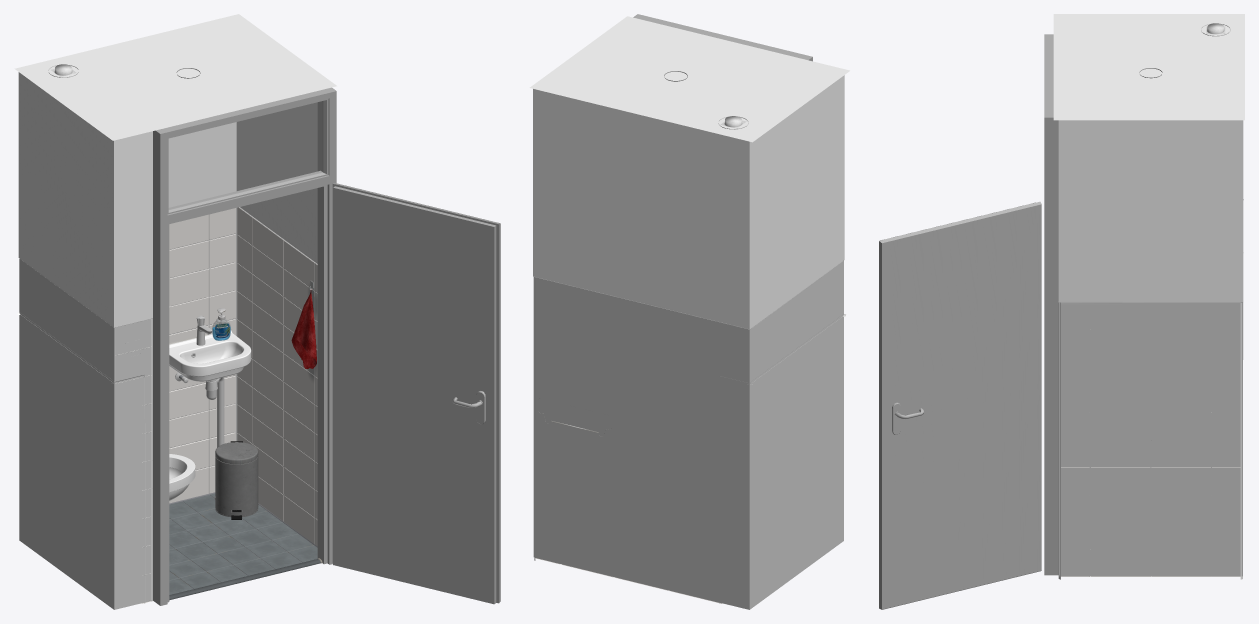
File: a_bathroom..glb
3 renders of one model, left to right at view 1: azimuth 30°, elevation 25°; view 2: azimuth 150°, elevation 25°; view 3: azimuth 270°, elevation 25°, orthographic. The views are drawn at different scales.
Visible parts, largest first — view 1: floorbump_ai_toiletwalls_shader_0, pasted__pCube8_lambert1_0, wall_tiles3_ai_walltiles_shader_0, pasted__window_glass2_pasted__aiStandardSurface1_0, toilet_floortiles_ai_floortiles_shader_0, sink_ai_sink_shader_0, bin_ai_bin_shader_0, gelstrip7_ai_gelstrip_shader_0, polySurface3_ai_cloth_shader_0, toilet_pot_screw1_ai_toiletpot_shader_0; view 2: floorbump_ai_toiletwalls_shader_0, pasted__pCube8_lambert1_0; view 3: floorbump_ai_toiletwalls_shader_0, pasted__pCube8_lambert1_0, gelstrip7_ai_gelstrip_shader_0.
Part boxes in pixels (x1=…): floorbump_ai_toiletwalls_shader_0: x1=14, y1=14, x2=336, y2=609; pasted__pCube8_lambert1_0: x1=153, y1=87, x2=500, y2=605; wall_tiles3_ai_walltiles_shader_0: x1=116, y1=207, x2=317, y2=603; pasted__window_glass2_pasted__aiStandardSurface1_0: x1=169, y1=102, x2=321, y2=208; toilet_floortiles_ai_floortiles_shader_0: x1=169, y1=493, x2=317, y2=594; sink_ai_sink_shader_0: x1=169, y1=315, x2=251, y2=499; bin_ai_bin_shader_0: x1=215, y1=441, x2=258, y2=519; gelstrip7_ai_gelstrip_shader_0: x1=17, y1=207, x2=237, y2=603; polySurface3_ai_cloth_shader_0: x1=291, y1=289, x2=316, y2=368; toilet_pot_screw1_ai_toiletpot_shader_0: x1=169, y1=454, x2=195, y2=500; floorbump_ai_toiletwalls_shader_0: x1=529, y1=16, x2=849, y2=609; pasted__pCube8_lambert1_0: x1=633, y1=14, x2=812, y2=61; floorbump_ai_toiletwalls_shader_0: x1=1053, y1=14, x2=1244, y2=576; pasted__pCube8_lambert1_0: x1=879, y1=34, x2=1058, y2=609; gelstrip7_ai_gelstrip_shader_0: x1=1058, y1=199, x2=1243, y2=579.
Size of the model in its own units: 1.67 by 2.54 by 1.81.
Materials: 18 (11 with a texture image).
